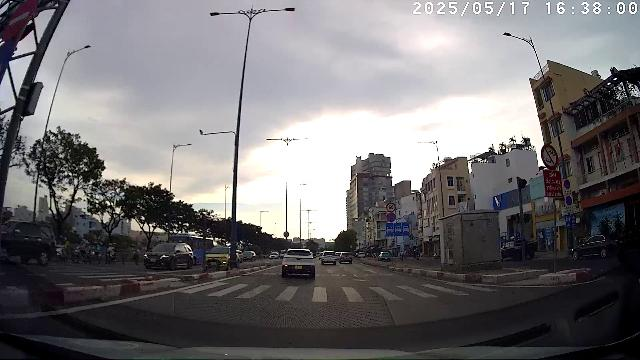127-toc-do-toi-da-60: (386, 202, 396, 212)
